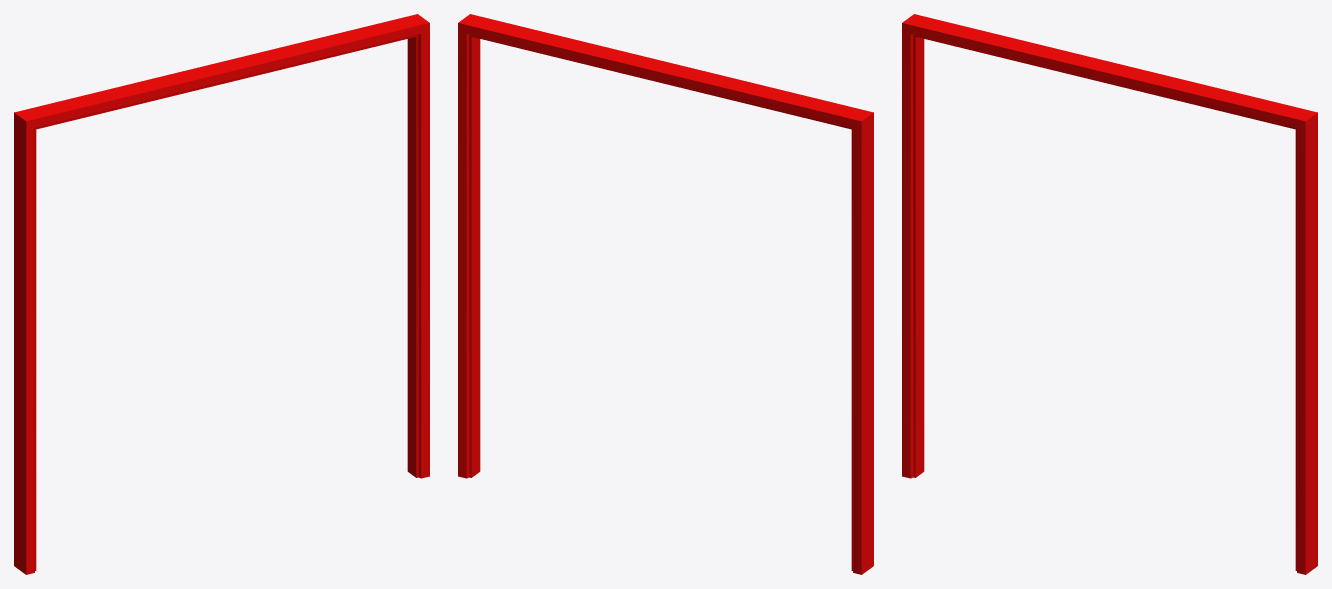
The model's file is doorway_double_3.glb.
The picture shows the model from 3 angles, left to right: view 1: azimuth 30°, elevation 25°; view 2: azimuth 150°, elevation 25°; view 3: azimuth 330°, elevation 25°; orthographic projection.
Parts seen in each view (by area): view 1: doorway_double_3; view 2: doorway_double_3; view 3: doorway_double_3.
Boxes of the visible parts, x1,y1,x2,y2 form: doorway_double_3: (14,14,429,574); doorway_double_3: (458,14,873,574); doorway_double_3: (902,14,1317,574).
Size of the model in its own units: 1.94 by 2.08 by 0.1014.
